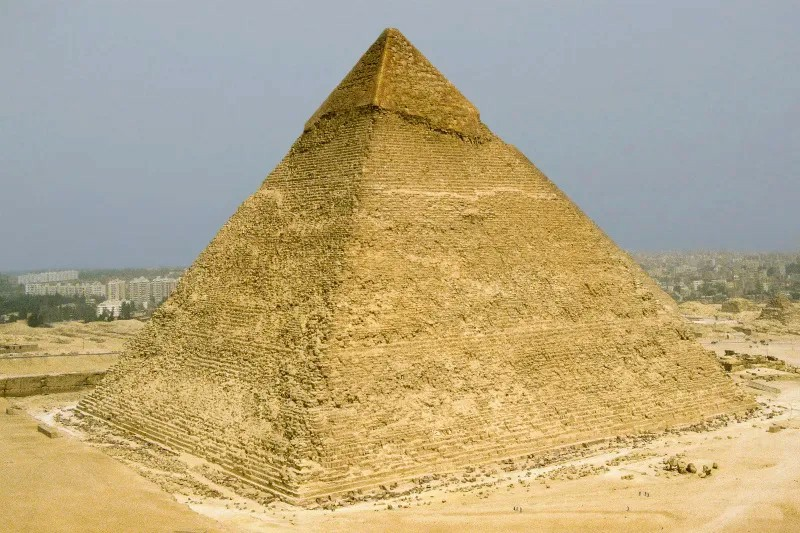Pyramid: (72, 29, 758, 510)
